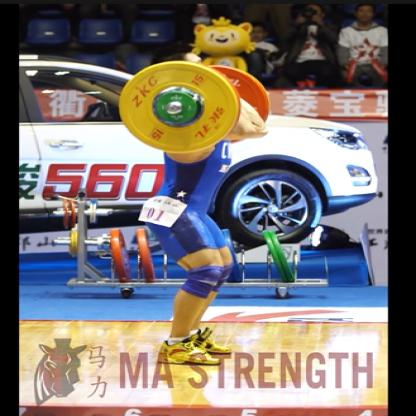Barbell: (115, 58, 249, 157)
